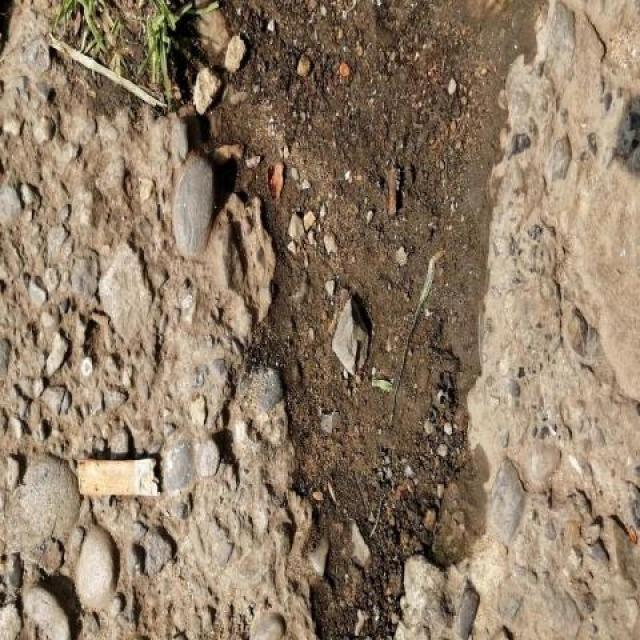non-organic waste: (73, 450, 167, 503)
